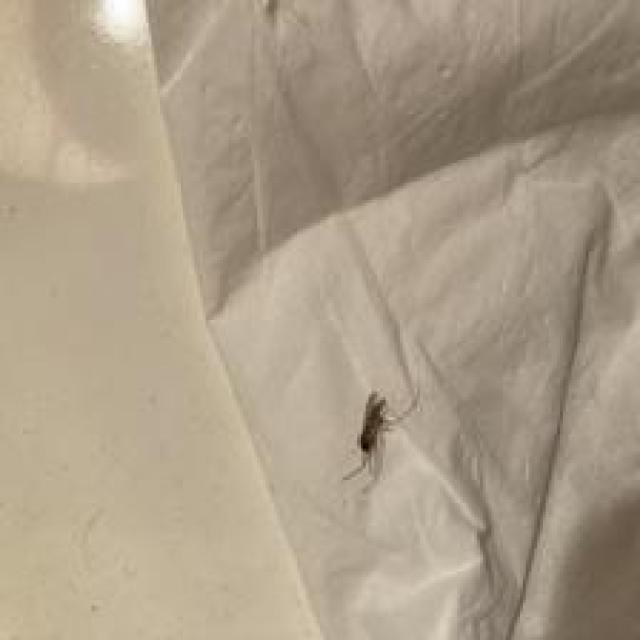Culex: (340, 387, 420, 484)
